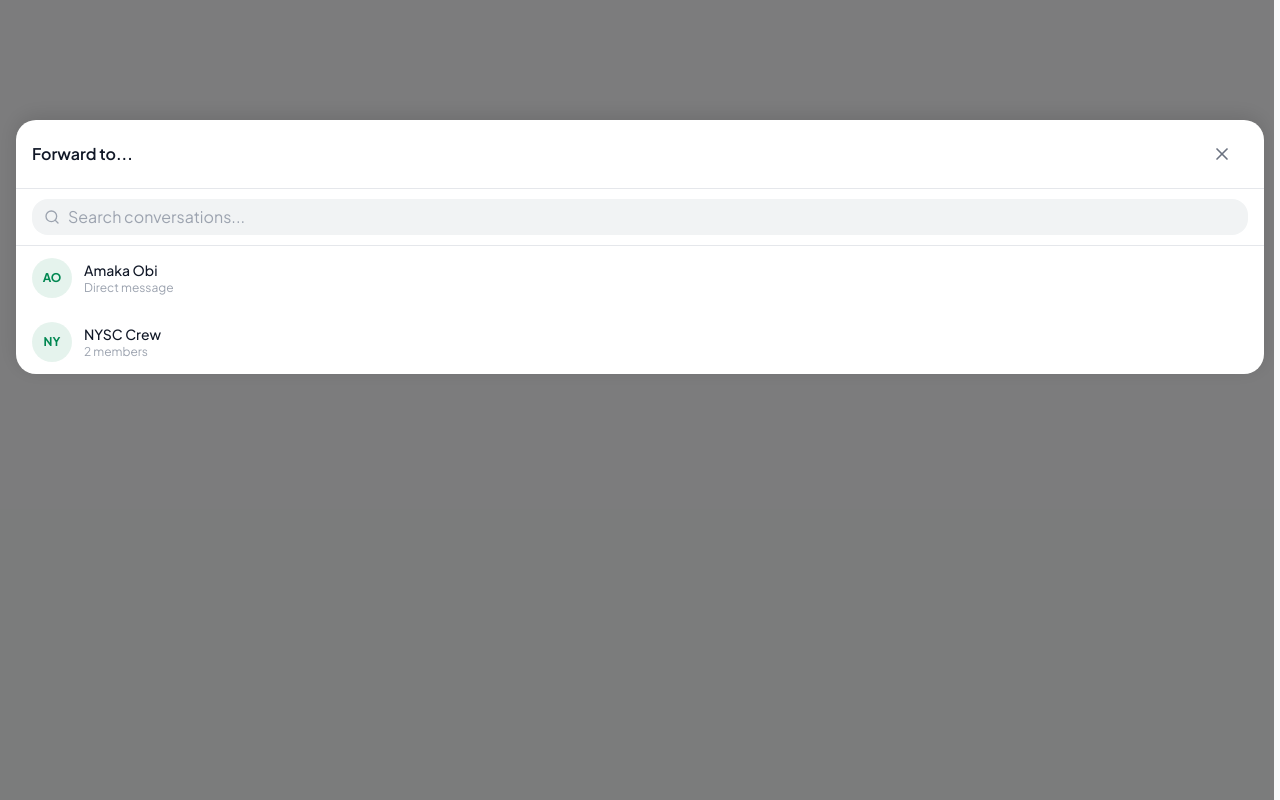
Test: ForwardModal › filters conversations by search query
The image size is (1280, 800).
Expected: the text "Amaka Obi" is shown, [84,261,158,279]
Type "NYSC" into the field with placeholder "Search conversations..." at (652, 217), box [68,207,1236,227]
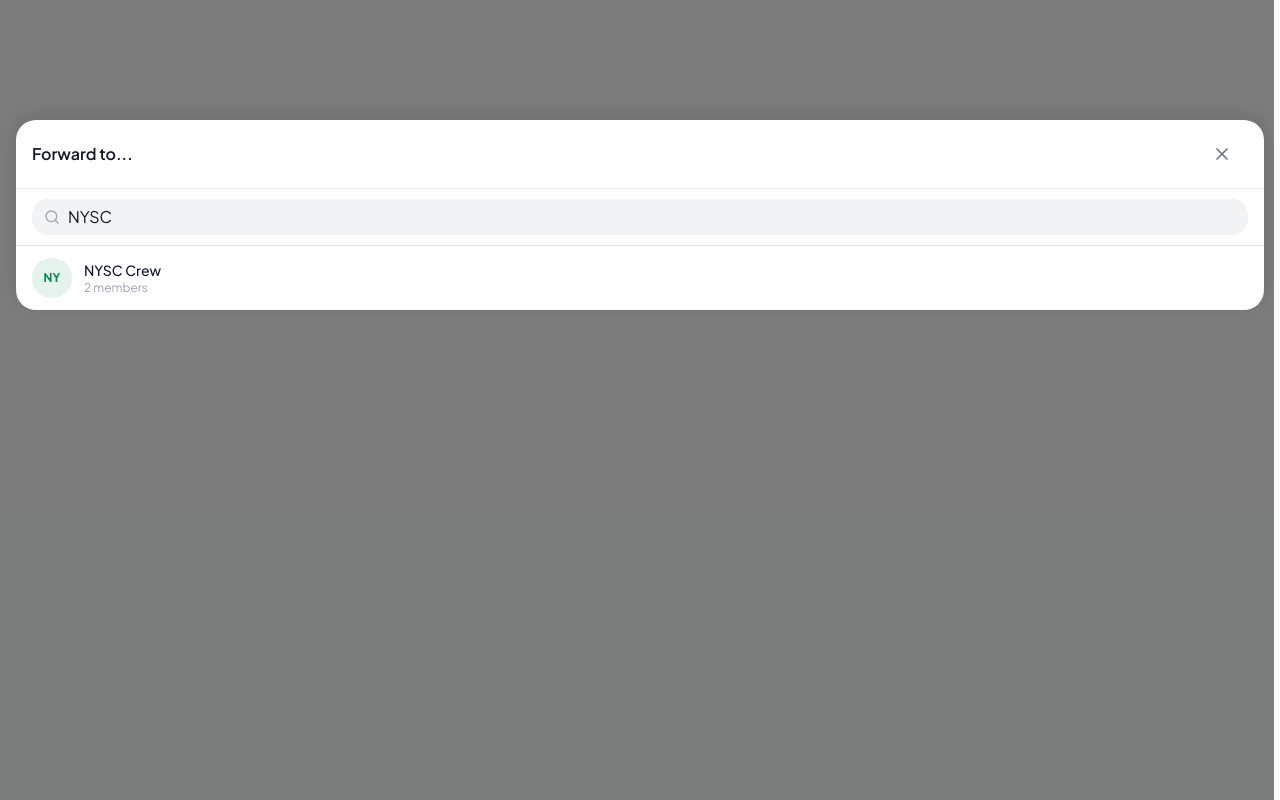
Expected: the text "NYSC Crew" is shown, [84,261,161,279]
Expected: the button "Amaka Obi" is gone
